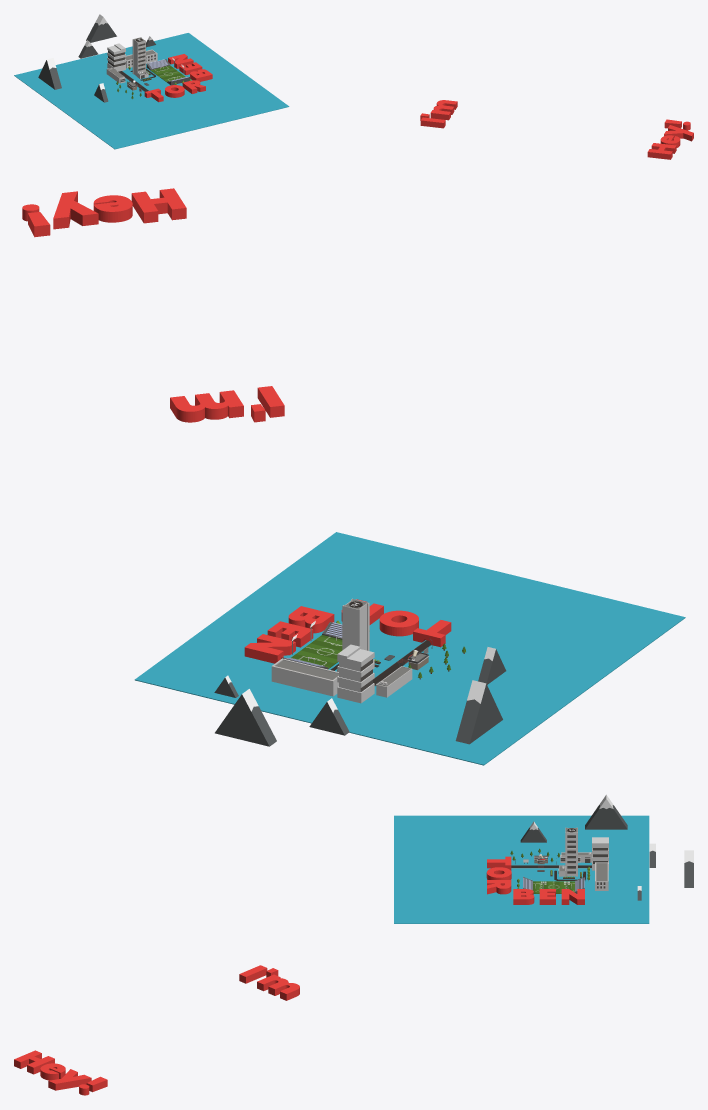
File: city_merged_backup.glb
3 views of the same model, one above another, from view 1: azimuth 30°, elevation 25°; view 2: azimuth 150°, elevation 25°; view 3: azimuth 270°, elevation 25° (orthographic). The views are drawn at different scales.
Visible parts, largest first — view 1: base, mountains, hey, im, ben, tor, skyscraper, back_building_2, soccer_pitch, back_building_3; view 2: base, mountains, hey, im, ben, back_building_2, tor, back_building_3, skyscraper, soccer_pitch; view 3: base, mountains, hey, im, ben, tor, skyscraper, back_building_2.
Boxes of the visible parts, left/top/right/bottom form: base: left=14, top=33, right=289, bottom=149; mountains: left=38, top=14, right=155, bottom=102; hey: left=647, top=119, right=693, bottom=159; im: left=420, top=100, right=457, bottom=128; ben: left=168, top=54, right=212, bottom=81; tor: left=144, top=80, right=205, bottom=102; skyscraper: left=130, top=37, right=155, bottom=80; back_building_2: left=107, top=43, right=125, bottom=71; soccer_pitch: left=147, top=65, right=188, bottom=85; back_building_3: left=125, top=49, right=157, bottom=68; base: left=134, top=532, right=685, bottom=765; mountains: left=214, top=647, right=506, bottom=746; hey: left=22, top=188, right=186, bottom=237; im: left=170, top=386, right=284, bottom=422; ben: left=244, top=606, right=334, bottom=663; back_building_2: left=337, top=644, right=374, bottom=703; tor: left=341, top=599, right=451, bottom=647; back_building_3: left=271, top=658, right=338, bottom=696; skyscraper: left=330, top=598, right=378, bottom=670; soccer_pitch: left=291, top=635, right=342, bottom=669; base: left=394, top=815, right=649, bottom=923; mountains: left=520, top=794, right=693, bottom=900; hey: left=14, top=1050, right=107, bottom=1095; im: left=239, top=965, right=299, bottom=1000; ben: left=513, top=889, right=584, bottom=904; tor: left=486, top=856, right=511, bottom=894; skyscraper: left=554, top=827, right=585, bottom=880; back_building_2: left=592, top=837, right=608, bottom=870.
Bounding box in the file's own units: 74.2 × 5.49 × 76.17.
30 materials, 4 textured.
